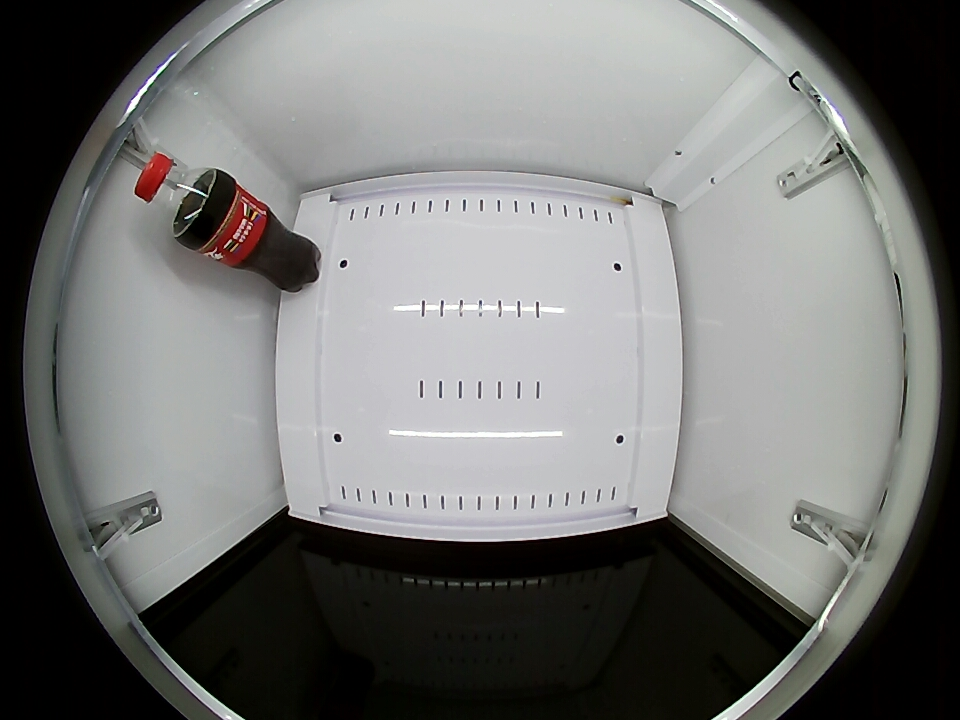kele-b: (134, 152, 220, 240)
